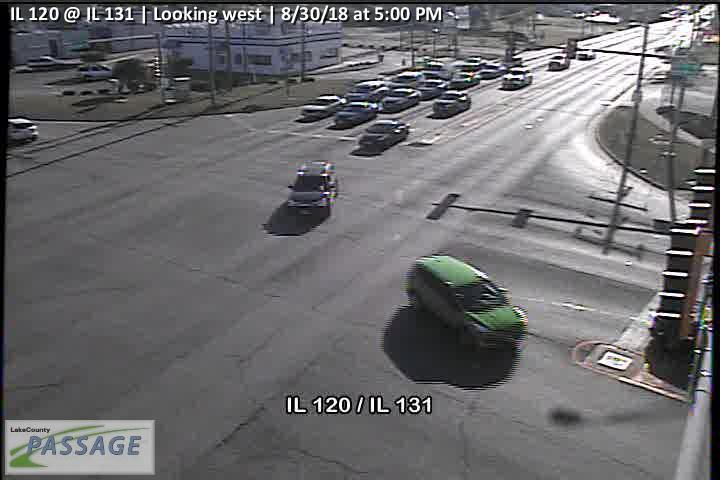SUV: (406, 254, 528, 354), (288, 160, 338, 215), (433, 89, 471, 118), (346, 81, 389, 106), (380, 88, 421, 112), (387, 71, 424, 93), (9, 117, 38, 145), (500, 66, 532, 91), (74, 62, 114, 82), (25, 55, 65, 69), (547, 52, 569, 71)
Sedan: (359, 119, 409, 152), (333, 100, 379, 126), (298, 93, 345, 117), (411, 79, 448, 101), (448, 70, 481, 90), (478, 62, 507, 82), (576, 49, 596, 59)
